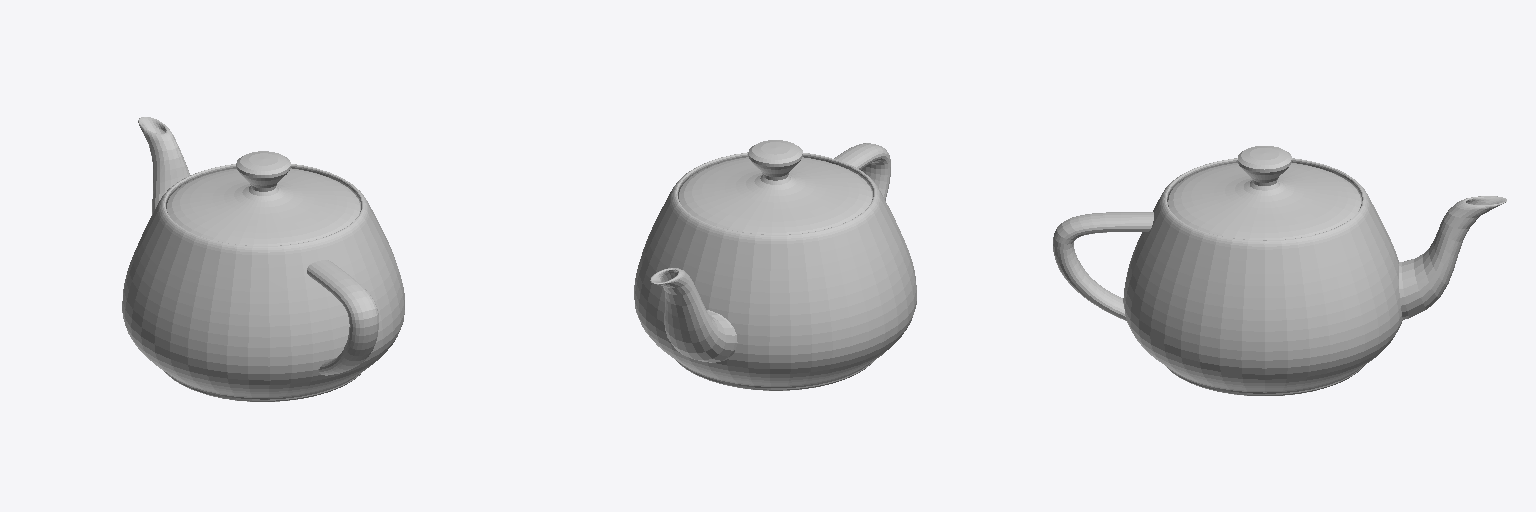
Rendered from Utah_teapot.obj.
The picture shows the model from 3 angles: view 1: azimuth 30°, elevation 25°; view 2: azimuth 150°, elevation 25°; view 3: azimuth 270°, elevation 25°; orthographic projection.
Visible parts, largest first — view 1: teapot; view 2: teapot; view 3: teapot.
Part boxes in pixels (x1,y1,x2,y2): teapot: (122,117,404,401); teapot: (634,140,916,390); teapot: (1053,146,1506,395).
Bounding box in the file's own units: 0.9956 × 0.7981 × 1.6.